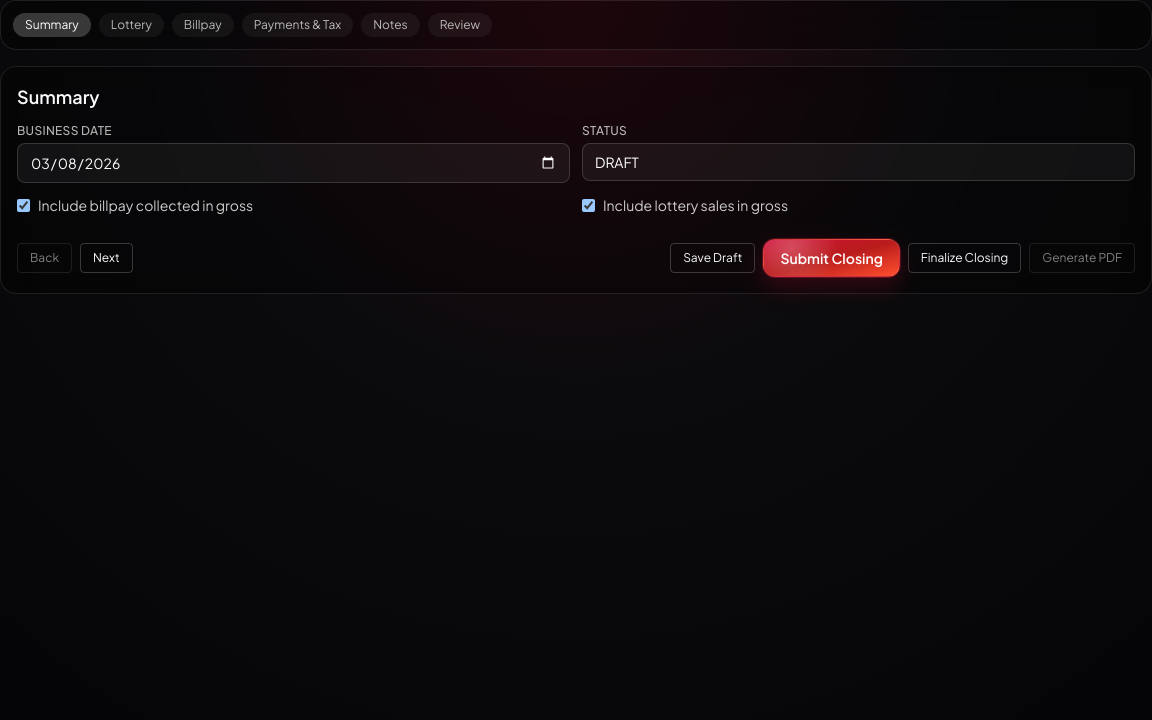
Scenario: ClosingWizard lottery row behavior › keeps locked lottery identity fields read-only in nightly flow for staff
Click the button "Next". click: (106, 258)
box: [80, 243, 133, 273]
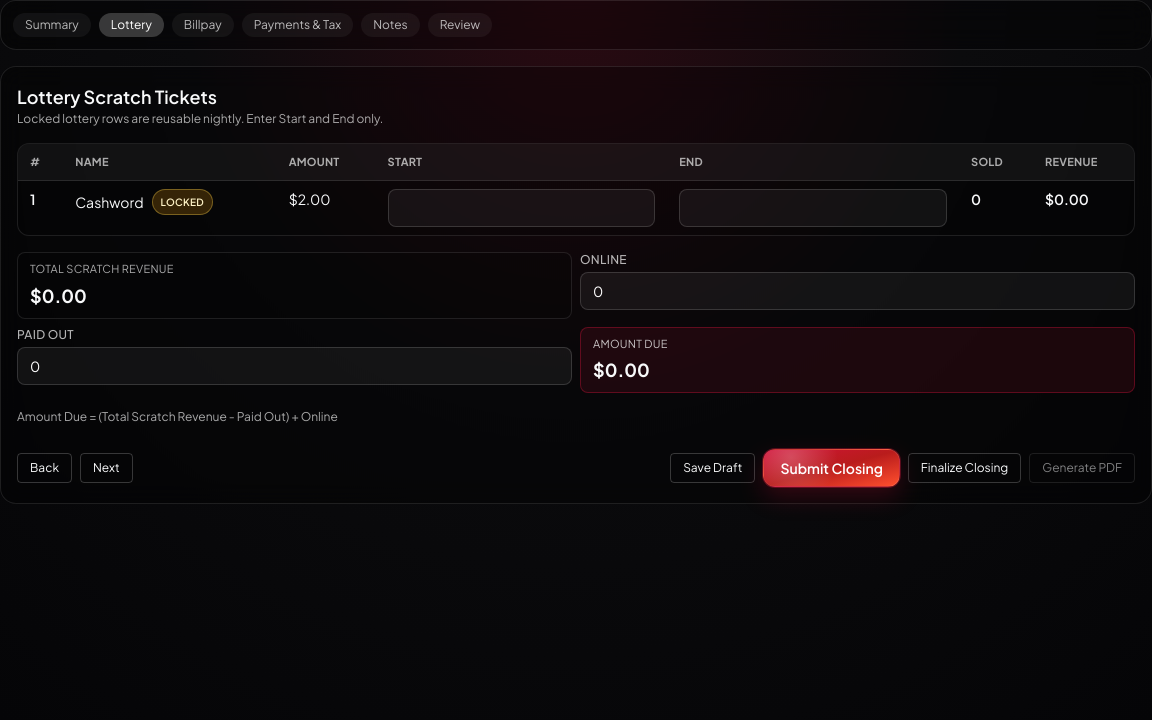
Now the text "Cashword" is shown, box [75, 193, 144, 211]
Now the 1st number field is enabled, box [388, 189, 655, 227]
Now the 2nd number field is enabled, box [679, 189, 947, 227]
